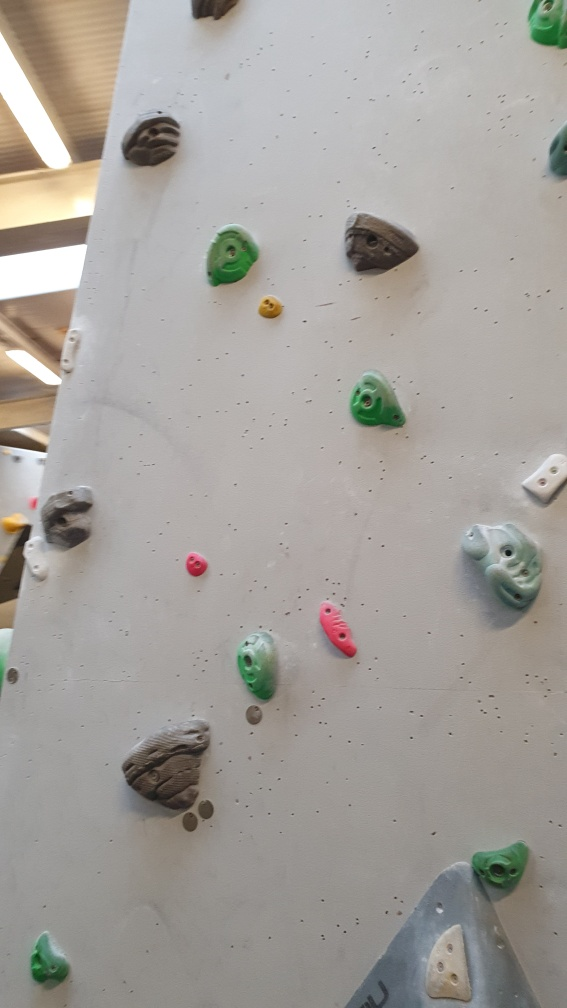Crimp: (523, 450, 567, 518)
Hand Start: (178, 807, 204, 834), (242, 699, 266, 727), (196, 799, 219, 822), (3, 667, 20, 685)
Jug: (120, 717, 213, 809), (461, 519, 542, 615), (344, 212, 423, 276), (39, 484, 100, 550), (346, 371, 411, 432), (201, 225, 261, 289), (121, 110, 184, 170), (235, 628, 285, 697)
